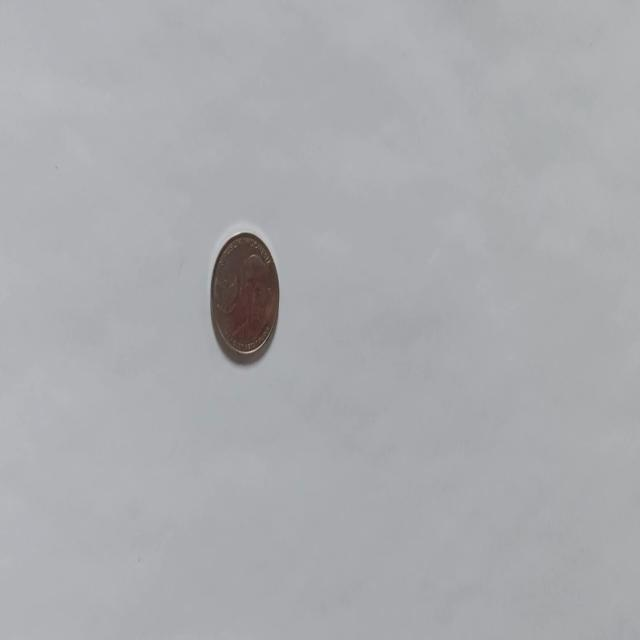seribu rupiah koin: (208, 228, 280, 362)
